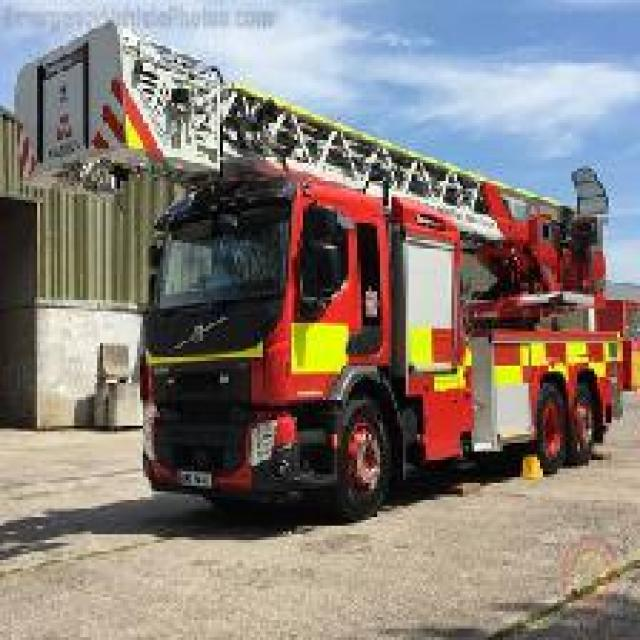Fire-truck: (9, 17, 637, 520)
